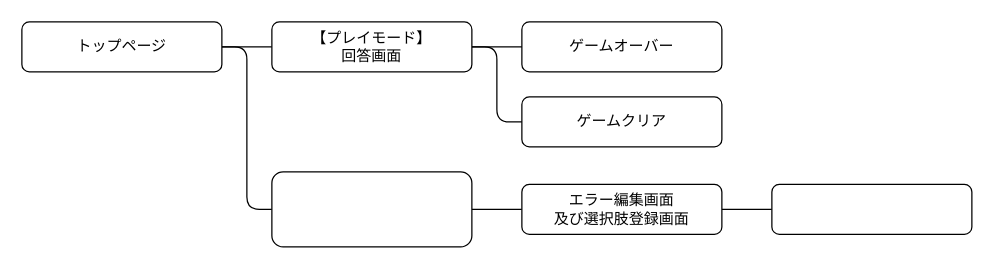
The diagram is 994 pixels wide and 269 high, and some of its shapes have lost their labels. The shapes that lost their labels are listed below. From the top down, each one's centre as x and y in pixels, then its label:
At point (371, 209): "【管理モード】 エラー(敵)登録画面 及び一覧表示画面".
At point (871, 208): "選択肢編集画面".
